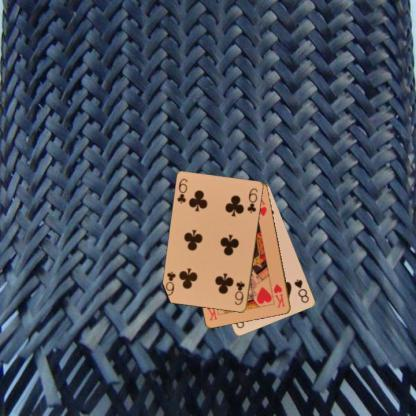6c: (174, 176, 189, 205), (232, 278, 246, 306)
8s: (292, 276, 310, 304)
Kh: (271, 281, 287, 309)
